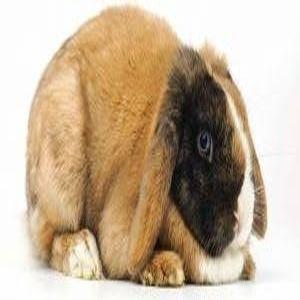rabbit: (27, 8, 269, 288)
